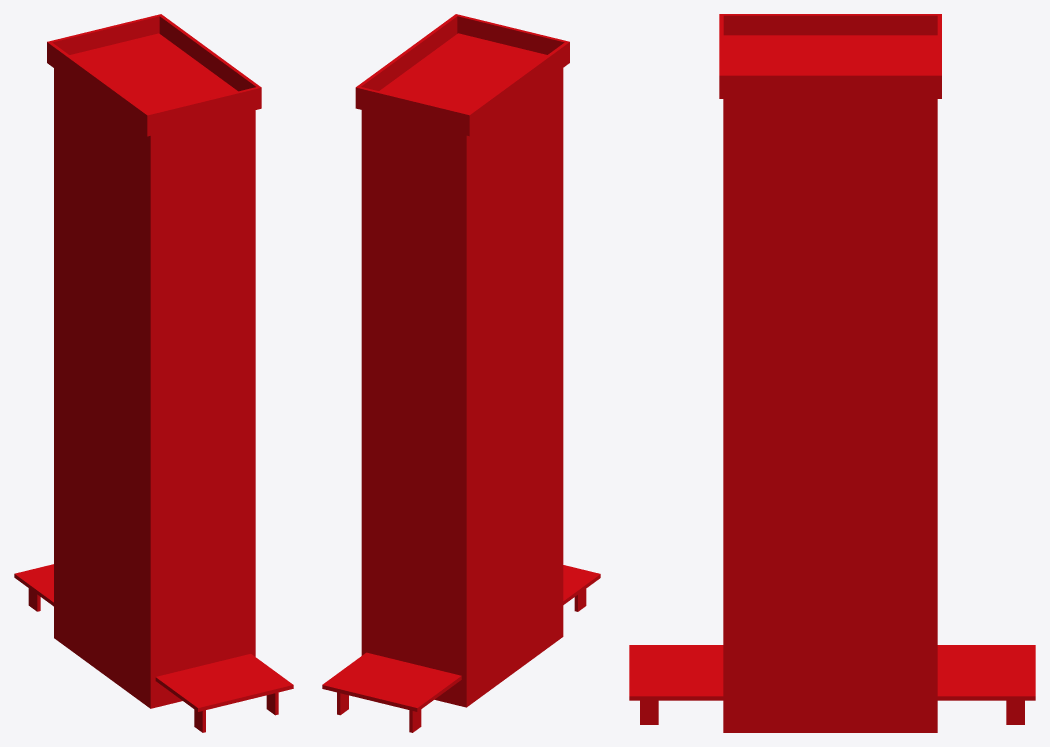
File: tower04.fbx
3 renders of one model, left to right at view 1: azimuth 30°, elevation 25°; view 2: azimuth 150°, elevation 25°; view 3: azimuth 270°, elevation 25°, orthographic. The views are drawn at different scales.
Visible parts, largest first — view 1: HB_invisible, HB_invisible.001, HB_invisible.009, HB_invisible.007, HB_invisible.006, HB_invisible.008; view 2: HB_invisible, HB_invisible.001, HB_invisible.007, HB_invisible.008, HB_invisible.006, HB_invisible.009; view 3: HB_invisible, HB_invisible.001, HB_invisible.006, HB_invisible.007.
Part boxes in pixels (bbox=[...]): HB_invisible: bbox=[54, 33, 255, 708]; HB_invisible.001: bbox=[14, 564, 293, 711]; HB_invisible.009: bbox=[148, 87, 260, 135]; HB_invisible.007: bbox=[47, 41, 150, 136]; HB_invisible.006: bbox=[158, 14, 261, 108]; HB_invisible.008: bbox=[49, 15, 159, 54]; HB_invisible: bbox=[361, 33, 563, 707]; HB_invisible.001: bbox=[322, 565, 600, 711]; HB_invisible.007: bbox=[466, 41, 569, 136]; HB_invisible.008: bbox=[358, 87, 468, 135]; HB_invisible.006: bbox=[355, 14, 458, 109]; HB_invisible.009: bbox=[456, 15, 566, 54]; HB_invisible: bbox=[723, 35, 937, 732]; HB_invisible.001: bbox=[629, 645, 1035, 700]; HB_invisible.006: bbox=[719, 74, 941, 98]; HB_invisible.007: bbox=[719, 14, 941, 35].
Size of what is drawn, in the model's own units: 5.35 by 26.66 by 14.89.
